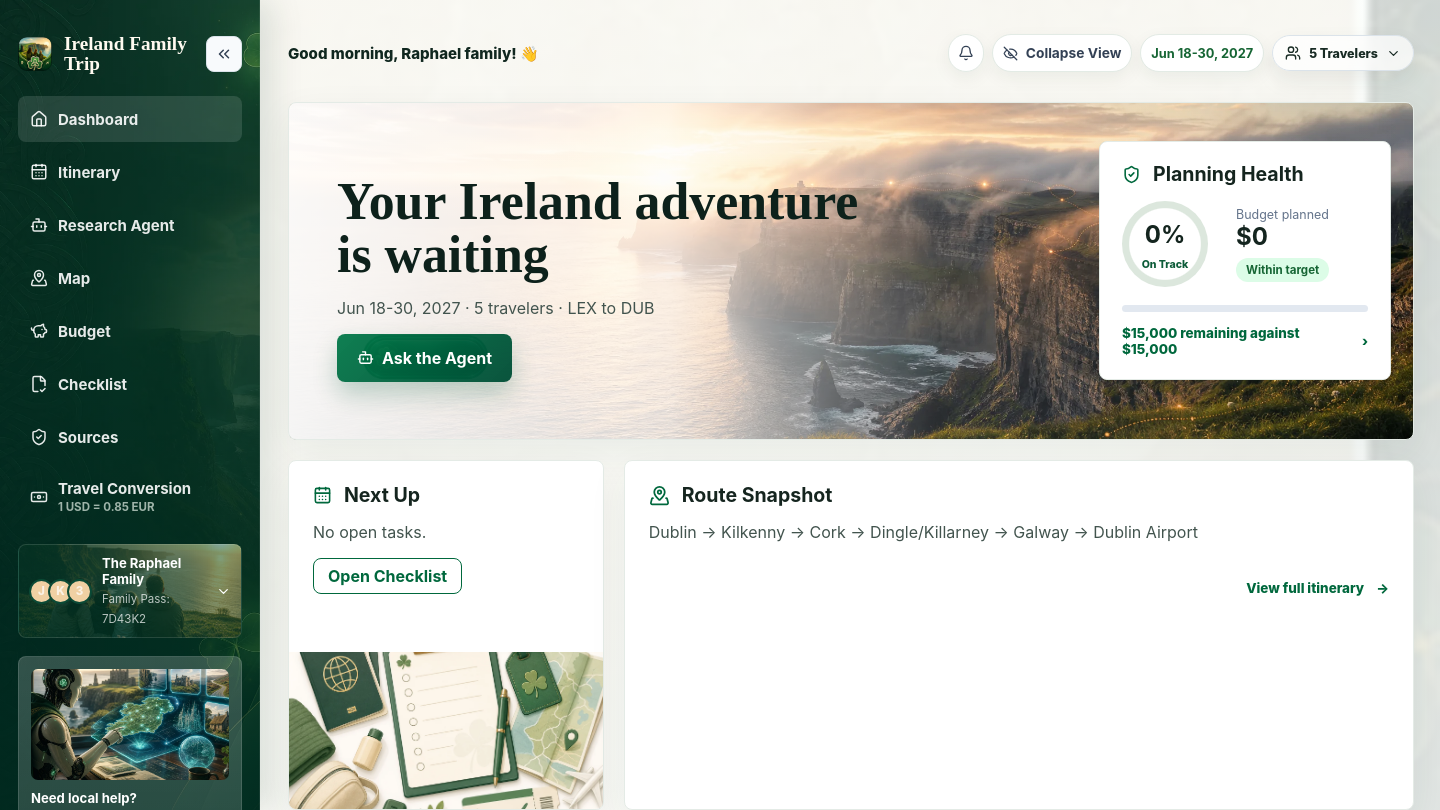
Scenario: Ireland trip app › collapses and expands the browser workspace view
The width and height of the screenshot is (1440, 810).
Expected: the text "Ireland Family Trip" is shown, [64, 34, 192, 74]
Click the button with aria-label "Collapse browser view" at (1062, 53), box [992, 34, 1132, 72]
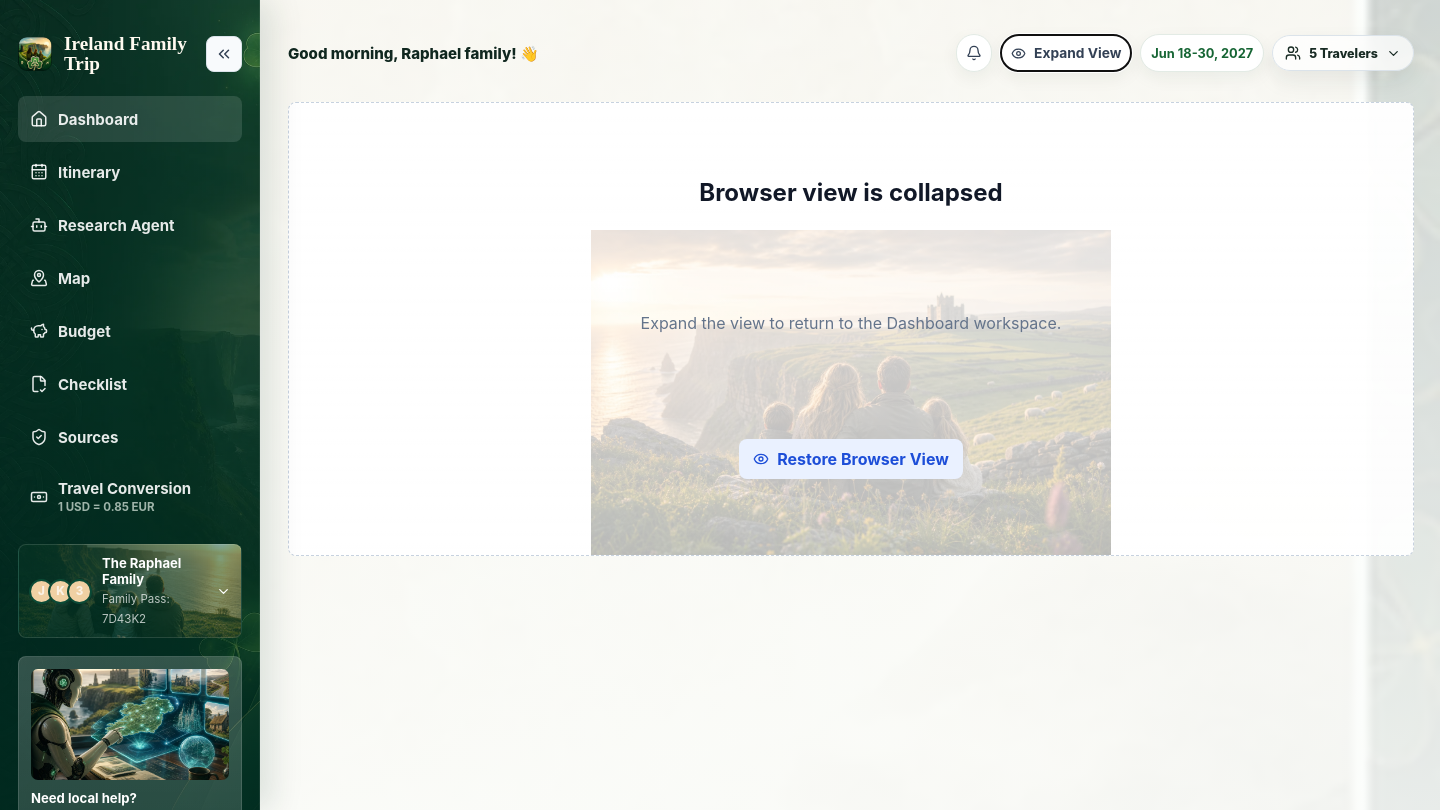
Now no headings "Planning Health" are shown
Now the heading "Browser view is collapsed" is shown, box [699, 178, 1003, 207]
Click the button with aria-label "Expand browser view" at (1066, 53), box [1000, 34, 1132, 72]
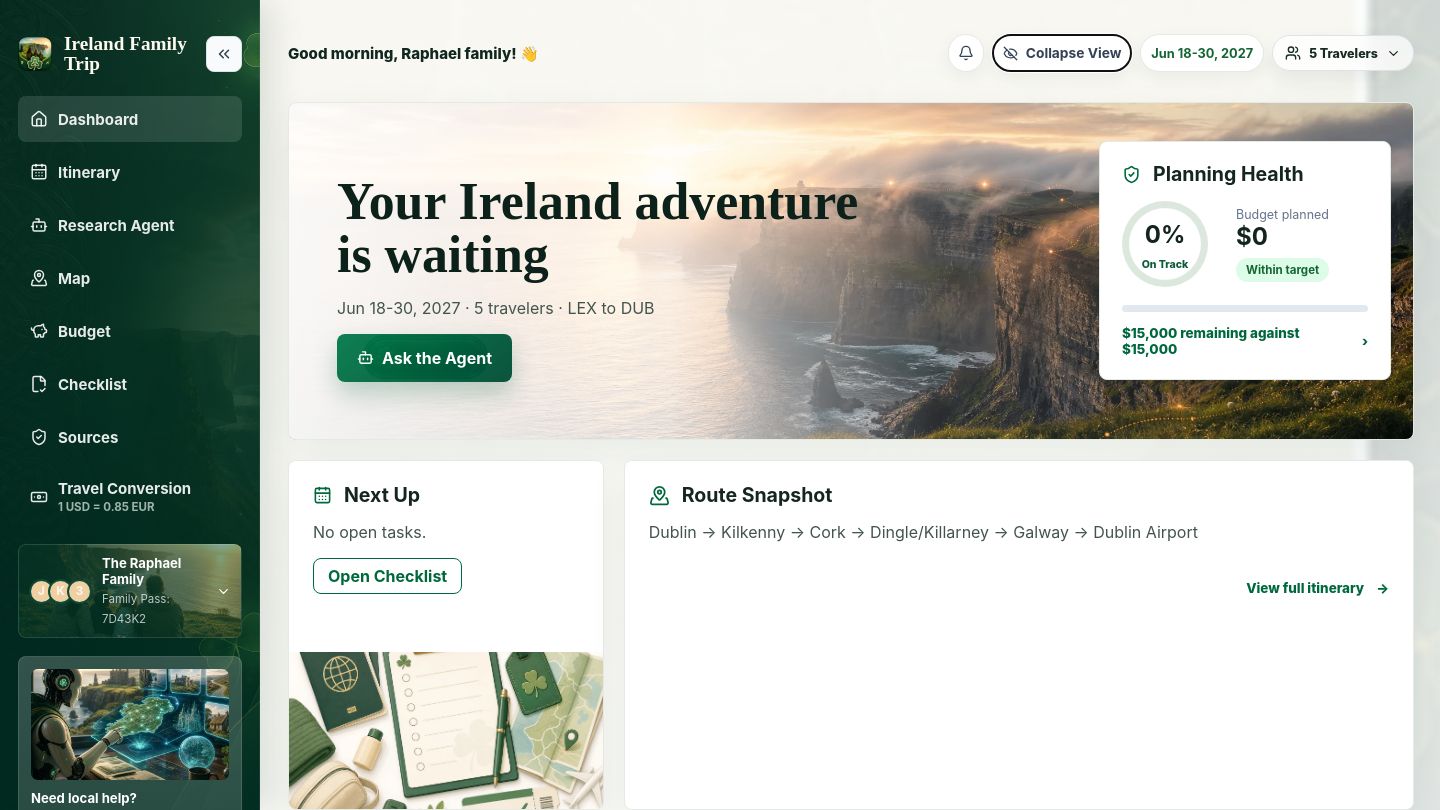
Now the heading "Planning Health" is shown, box [1153, 164, 1304, 186]
